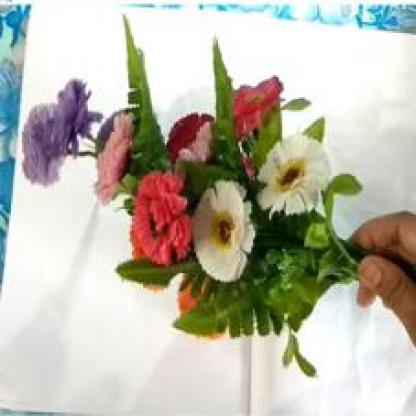flower: (21, 29, 361, 390)
